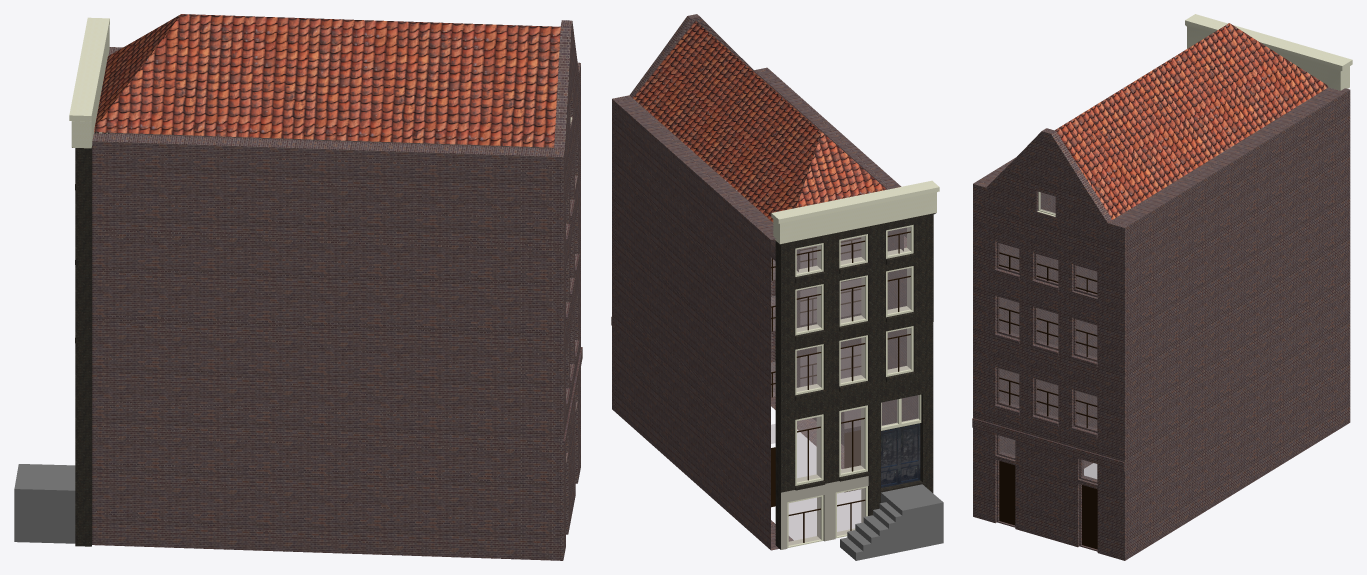
Rendered from artifact_scan.glb.
3 views of the same model, side by side, from view 1: azimuth 30°, elevation 25°; view 2: azimuth 150°, elevation 25°; view 3: azimuth 270°, elevation 25° (orthographic). The views are drawn at different scales.
Visible parts, largest first — view 1: test_model; view 2: test_model; view 3: test_model.
Boxes of the visible parts, bbox=[...] form: test_model: bbox=[14, 14, 582, 560]; test_model: bbox=[611, 14, 943, 560]; test_model: bbox=[972, 14, 1352, 560].
Size of the model in its own units: 17.13 by 16.19 by 13.69.
9 materials, 5 textured.
